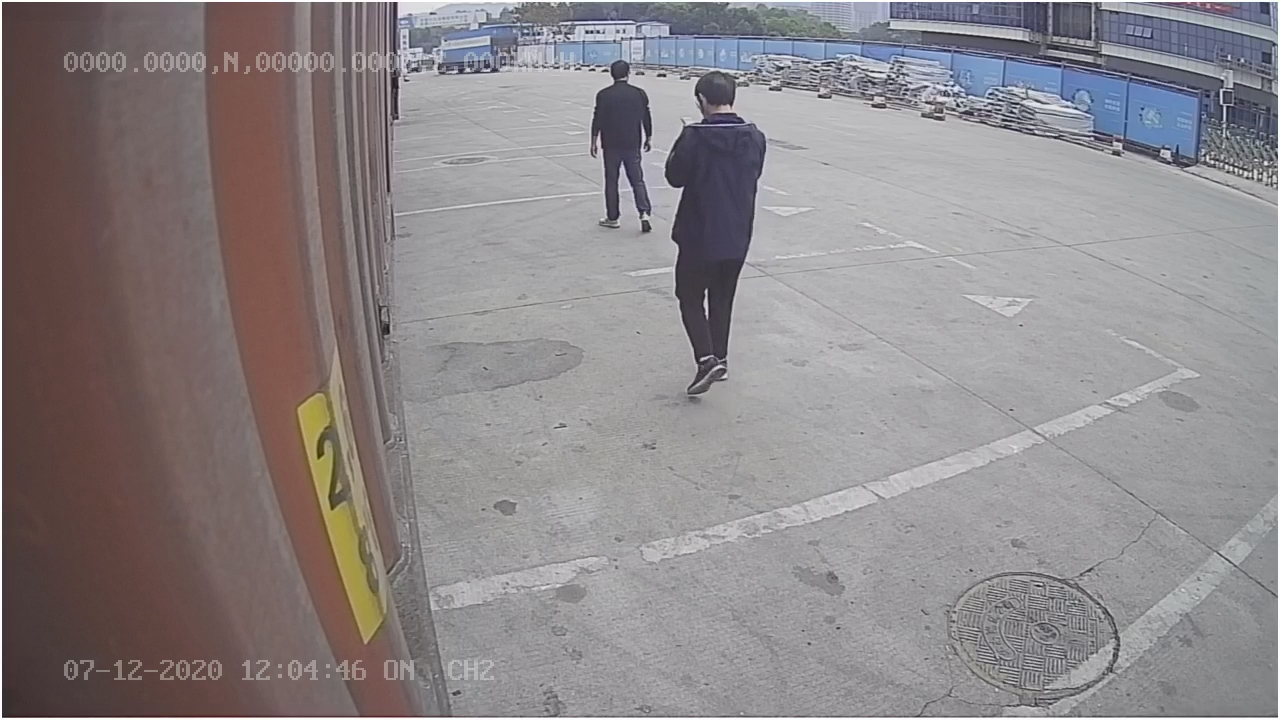person: (660, 72, 768, 395)
